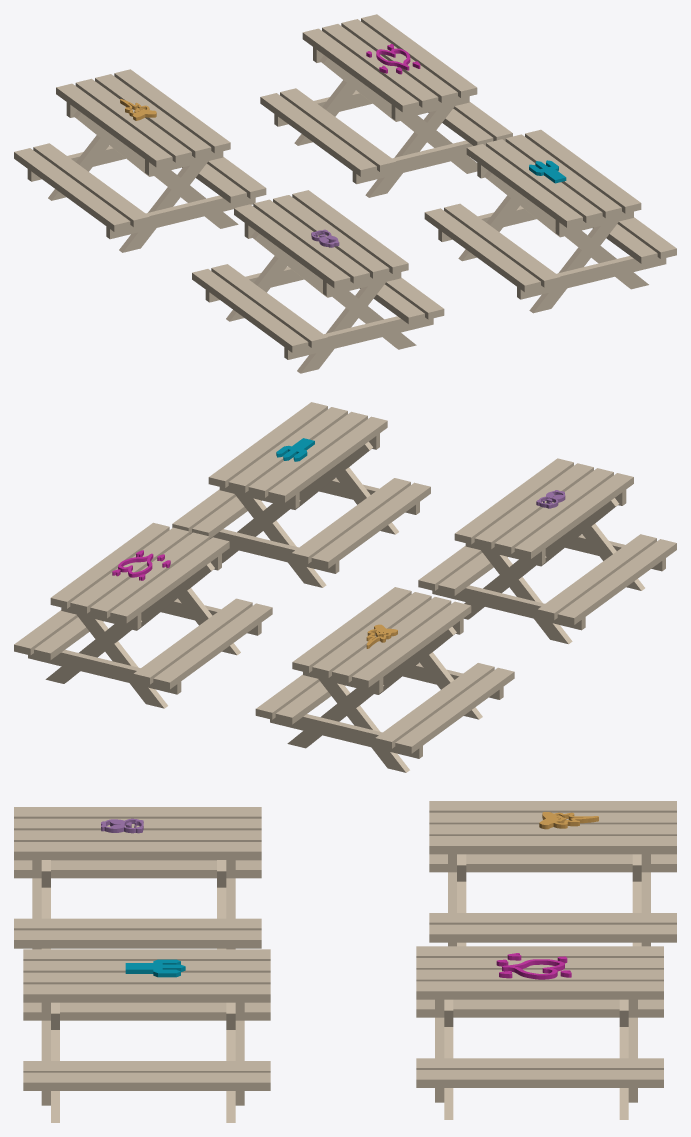
Rendered from tables4.glb.
The picture shows the model from 3 angles, top to bottom: view 1: azimuth 30°, elevation 25°; view 2: azimuth 150°, elevation 25°; view 3: azimuth 270°, elevation 25°; orthographic projection. The views are drawn at different scales.
Visible parts, largest first — view 1: Mesh_Mesh_head_geo.001_lambert2SG.001; view 2: Mesh_Mesh_head_geo.001_lambert2SG.001; view 3: Mesh_Mesh_head_geo.001_lambert2SG.001.
Boxes of the visible parts, x1,y1,x2,y2 form: Mesh_Mesh_head_geo.001_lambert2SG.001: (14, 14, 676, 373); Mesh_Mesh_head_geo.001_lambert2SG.001: (14, 402, 676, 772); Mesh_Mesh_head_geo.001_lambert2SG.001: (14, 801, 676, 1122).
Size of the model in its own units: 0.123 by 0.029 by 0.1436.
